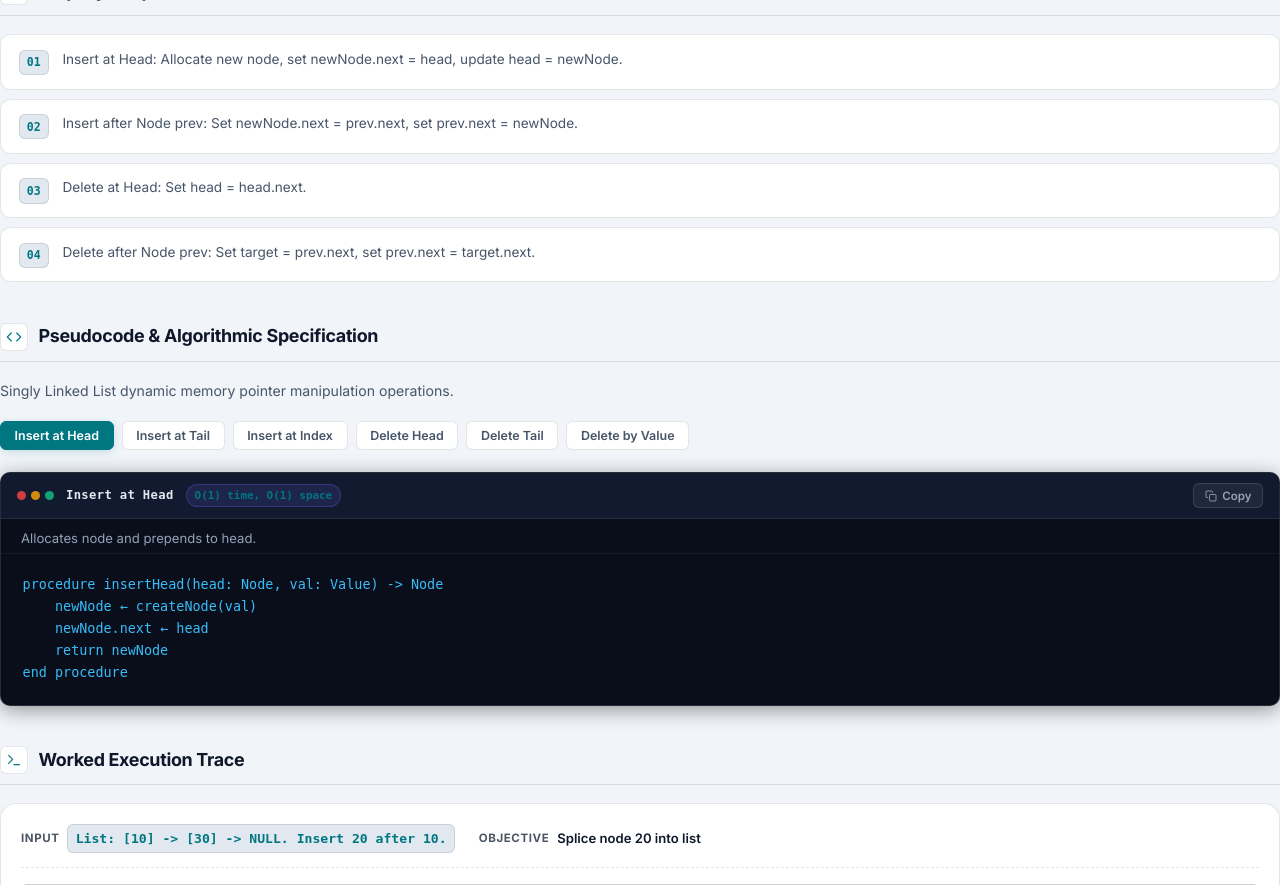
Scenario: TheorySection & Pseudocode Tabbed Component › renders multi-operation tabs for Singly Linked List and switches operations on click
This screenshot has width=1280, height=885.
(page scrolled)
Expected: the tab "Insert at Head" is shown, left=0, top=421, right=114, bottom=450
Expected: the tab "Insert at Tail" is shown, left=122, top=421, right=225, bottom=450
Click the tab "Delete by Value" at (628, 436), box left=566, top=421, right=689, bottom=450
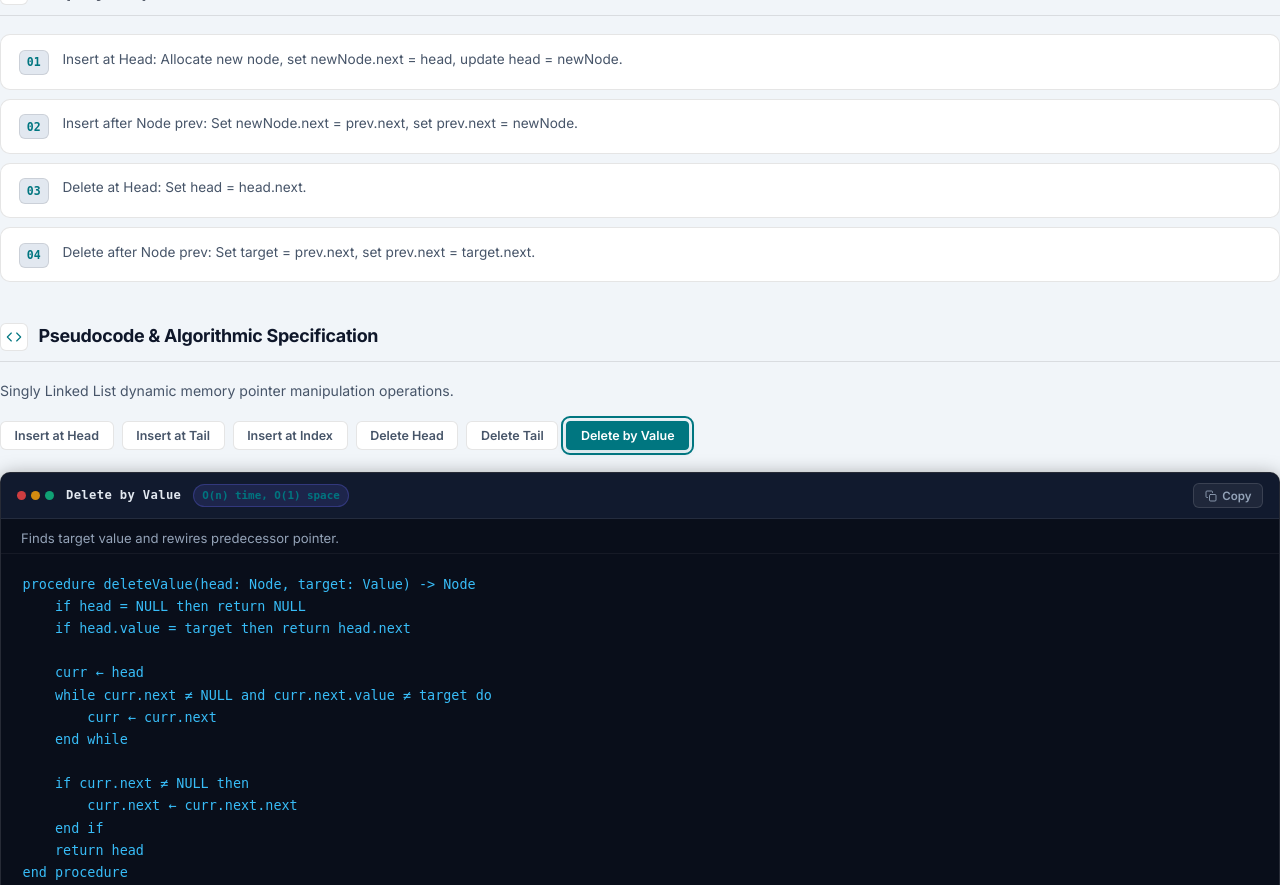
Expected: the text "procedure deleteValue" is shown, left=23, top=577, right=492, bottom=880
